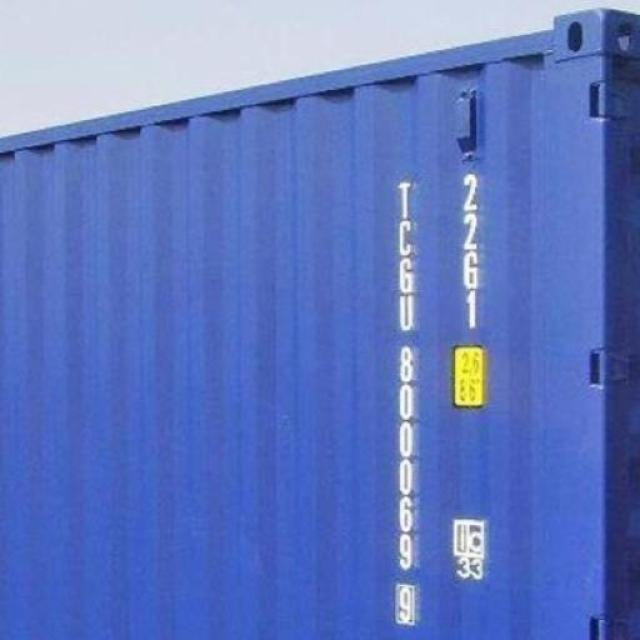ISO: (457, 168, 485, 328)
container_number: (385, 175, 417, 626)
